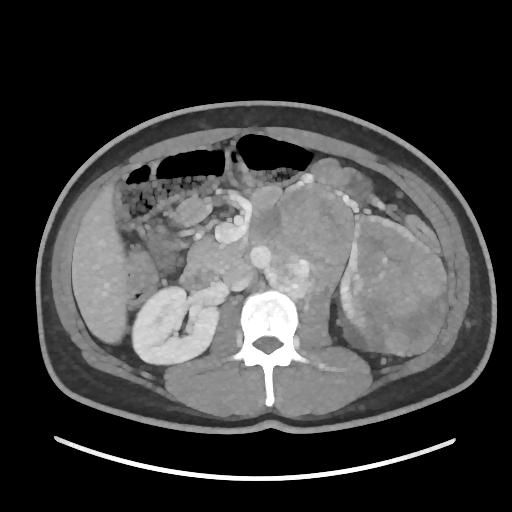Lesion: (351, 214, 448, 328)
